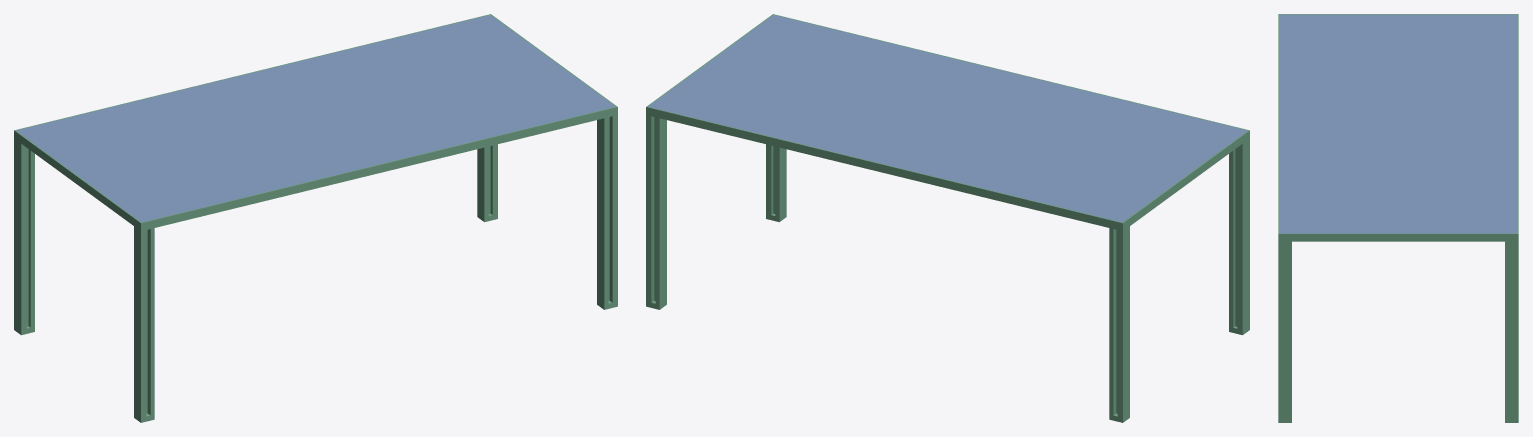
The model's file is desk_table.obj.
3 renders of one model, left to right at view 1: azimuth 30°, elevation 25°; view 2: azimuth 150°, elevation 25°; view 3: azimuth 270°, elevation 25°, orthographic. The views are drawn at different scales.
Visible parts, largest first — view 1: mesa_oficina_Cube.144, soporte_mesa_Cube.155; view 2: mesa_oficina_Cube.144, soporte_mesa_Cube.155; view 3: mesa_oficina_Cube.144, soporte_mesa_Cube.155.
Part boxes in pixels (x1=…): mesa_oficina_Cube.144: x1=16, y1=15, x2=615, y2=222; soporte_mesa_Cube.155: x1=14, y1=14, x2=617, y2=422; mesa_oficina_Cube.144: x1=648, y1=15, x2=1247, y2=222; soporte_mesa_Cube.155: x1=646, y1=14, x2=1249, y2=422; mesa_oficina_Cube.144: x1=1279, y1=14, x2=1517, y2=233; soporte_mesa_Cube.155: x1=1278, y1=14, x2=1518, y2=422.
Size of the model in its own units: 192 by 76.65 by 88.37.
